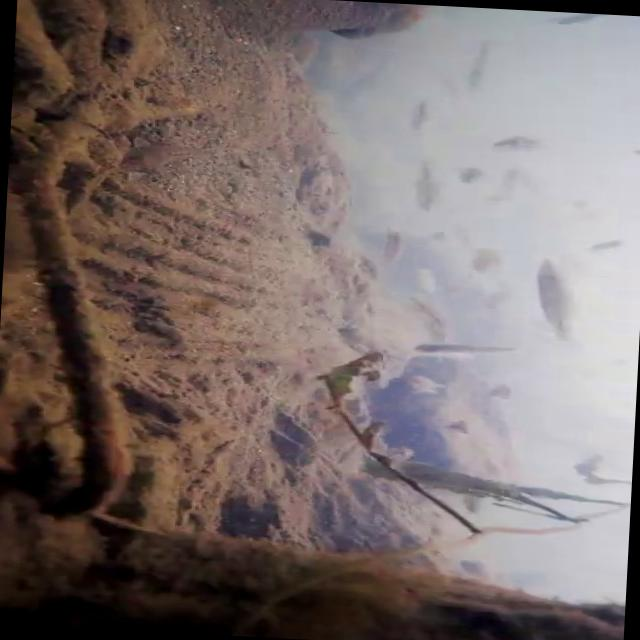Cakil Baligi: (526, 260, 590, 342), (461, 40, 508, 96), (402, 165, 456, 212), (413, 343, 515, 360), (372, 227, 414, 268)
